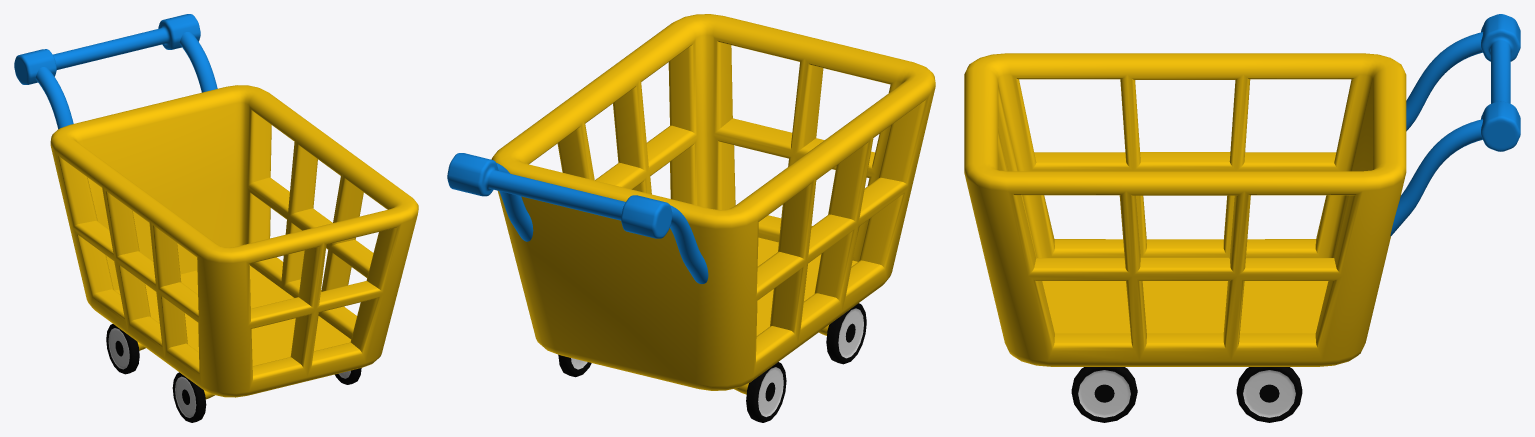
File: shopping_cart.glb
The picture shows the model from 3 angles, left to right: view 1: azimuth 30°, elevation 25°; view 2: azimuth 150°, elevation 25°; view 3: azimuth 270°, elevation 25°; orthographic projection. The views are drawn at different scales.
Parts seen in each view (by area): view 1: basket, handle, wheel-1-Material.003, wheel-0-Material.003, wheel-1-Material.002, wheel-0-Material.002; view 2: basket, handle, wheel-1-Material.003, wheel-0-Material.003, wheel-1-Material.002, wheel-0-Material.002; view 3: basket, handle, wheel-2-Material.002, wheel-3-Material.002, wheel-2-Material.003, wheel-3-Material.003.
Boxes of the visible parts, x1,y1,x2,y2 form: basket: [50, 85, 418, 397]; handle: [14, 14, 217, 128]; wheel-1-Material.003: [106, 324, 139, 374]; wheel-0-Material.003: [172, 372, 206, 422]; wheel-1-Material.002: [108, 328, 129, 369]; wheel-0-Material.002: [175, 376, 196, 417]; basket: [491, 14, 935, 390]; handle: [447, 153, 708, 283]; wheel-1-Material.003: [746, 362, 786, 422]; wheel-0-Material.003: [826, 303, 866, 364]; wheel-1-Material.002: [758, 367, 783, 416]; wheel-0-Material.002: [838, 308, 863, 358]; basket: [964, 53, 1406, 366]; handle: [1390, 14, 1520, 236]; wheel-2-Material.002: [1078, 370, 1130, 417]; wheel-3-Material.002: [1243, 370, 1295, 417]; wheel-2-Material.003: [1071, 367, 1137, 422]; wheel-3-Material.003: [1236, 367, 1302, 422].
Bounding box in the file's own units: 1.02 × 1.13 × 1.83.
